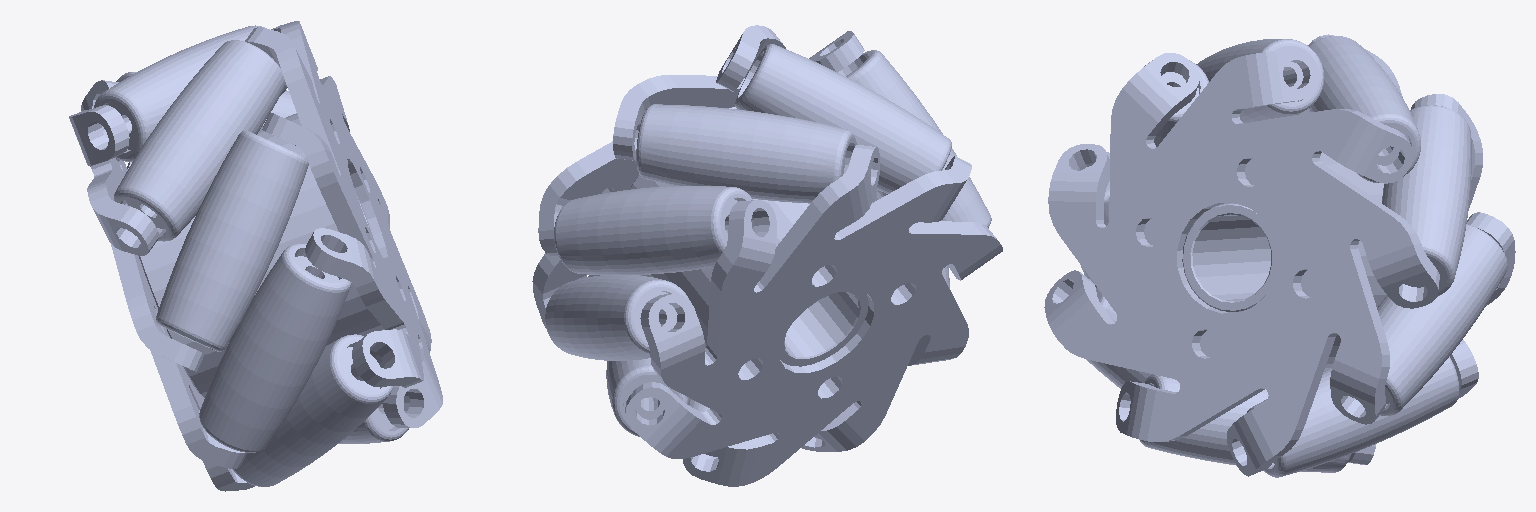
The robot description file, URDF, robot "Mecanum-Right":
<?xml version="1.0" encoding="utf-8"?>
<!-- This URDF was automatically created by SolidWorks to URDF Exporter! Originally created by [author] ([email redacted]) 
     Commit Version: 1.6.0-4-g7f85cfe  Build Version: 1.6.7995.38578
     For more information, please see http://wiki.ros.org/sw_urdf_exporter -->
<robot
  name="Mecanum-Right">
  <link
    name="Right_Base_Link">
    <inertial>
      <origin
        xyz="-4.7771233839358E-07 2.34552518933002E-07 -2.07119508697187E-07"
        rpy="0 0 0" />
      <mass
        value="0.0110925597603562" />
      <inertia
        ixx="1.26410691718137E-06"
        ixy="-1.5460162528858E-07"
        ixz="1.36519585539842E-07"
        iyy="1.02513832514045E-06"
        iyz="-6.70299050271453E-08"
        izz="1.00842045851304E-06" />
    </inertial>
    <visual>
      <origin
        xyz="0 0 0"
        rpy="0 0 0" />
      <geometry>
        <mesh
          filename="package://Mecanum-Right/meshes/Right_Base_Link.STL" />
      </geometry>
      <material
        name="">
        <color
          rgba="0.792156862745098 0.819607843137255 0.933333333333333 1" />
      </material>
    </visual>
    <collision>
      <origin
        xyz="0 0 0"
        rpy="0 0 0" />
      <geometry>
        <mesh
          filename="package://Mecanum-Right/meshes/Right_Base_Link.STL" />
      </geometry>
    </collision>
  </link>
  <link
    name="Mecanum_Roller_Link1">
    <inertial>
      <origin
        xyz="-4.16595979552251E-05 0 1.56125112837913E-17"
        rpy="0 0 0" />
      <mass
        value="0.00104310145784987" />
      <inertia
        ixx="9.96758957260102E-09"
        ixy="2.95006210648795E-24"
        ixz="2.48154183765908E-24"
        iyy="3.79225492604175E-08"
        iyz="-1.60266243682149E-24"
        izz="3.79225492604175E-08" />
    </inertial>
    <visual>
      <origin
        xyz="0 0 0"
        rpy="0 0 0" />
      <geometry>
        <mesh
          filename="package://Mecanum-Right/meshes/Mecanum_Roller_Link1.STL" />
      </geometry>
      <material
        name="">
        <color
          rgba="0.792156862745098 0.819607843137255 0.933333333333333 1" />
      </material>
    </visual>
    <collision>
      <origin
        xyz="0 0 0"
        rpy="0 0 0" />
      <geometry>
        <mesh
          filename="package://Mecanum-Right/meshes/Mecanum_Roller_Link1.STL" />
      </geometry>
    </collision>
  </link>
  <joint
    name="Mecanum_Roller_Joint_1"
    type="continuous">
    <origin
      xyz="-0.00786276516006295 -0.00229210366796707 0.0151828566548909"
      rpy="-1.36068806852681 0.491674447872911 -2.73783219400761" />
    <parent
      link="Right_Base_Link" />
    <child
      link="Mecanum_Roller_Link1" />
    <axis
      xyz="1 0 0" />
  </joint>
  <link
    name="Mecanum_Roller_Link2">
    <inertial>
      <origin
        xyz="-4.19537259518619E-05 5.55111512312578E-17 4.5102810375397E-17"
        rpy="0 0 0" />
      <mass
        value="0.00104310145784987" />
      <inertia
        ixx="9.96758957260102E-09"
        ixy="4.13590306276514E-25"
        ixz="8.27180612553028E-25"
        iyy="3.79225492604175E-08"
        iyz="0"
        izz="3.79225492604175E-08" />
    </inertial>
    <visual>
      <origin
        xyz="0 0 0"
        rpy="0 0 0" />
      <geometry>
        <mesh
          filename="package://Mecanum-Right/meshes/Mecanum_Roller_Link2.STL" />
      </geometry>
      <material
        name="">
        <color
          rgba="0.792156862745098 0.819607843137255 0.933333333333333 1" />
      </material>
    </visual>
    <collision>
      <origin
        xyz="0 0 0"
        rpy="0 0 0" />
      <geometry>
        <mesh
          filename="package://Mecanum-Right/meshes/Mecanum_Roller_Link2.STL" />
      </geometry>
    </collision>
  </link>
  <joint
    name="Mecanum_Roller_Joint_2"
    type="continuous">
    <origin
      xyz="-0.00257449912034201 0.00825350947765706 0.0149280771357719"
      rpy="1.93542758330994 -0.0214038442701011 0.265392618762669" />
    <parent
      link="Right_Base_Link" />
    <child
      link="Mecanum_Roller_Link2" />
    <axis
      xyz="1 0 0" />
  </joint>
  <link
    name="Mecanum_Roller_Link3">
    <inertial>
      <origin
        xyz="-4.16595979550827E-05 -1.73472347597681E-18 -1.73472347597681E-18"
        rpy="0 0 0" />
      <mass
        value="0.00104310145784987" />
      <inertia
        ixx="9.96758957260103E-09"
        ixy="1.88700577238659E-24"
        ixz="4.44609579247252E-24"
        iyy="3.79225492604175E-08"
        iyz="-4.13590306276514E-25"
        izz="3.79225492604175E-08" />
    </inertial>
    <visual>
      <origin
        xyz="0 0 0"
        rpy="0 0 0" />
      <geometry>
        <mesh
          filename="package://Mecanum-Right/meshes/Mecanum_Roller_Link3.STL" />
      </geometry>
      <material
        name="">
        <color
          rgba="0.792156862745098 0.819607843137255 0.933333333333333 1" />
      </material>
    </visual>
    <collision>
      <origin
        xyz="0 0 0"
        rpy="0 0 0" />
      <geometry>
        <mesh
          filename="package://Mecanum-Right/meshes/Mecanum_Roller_Link3.STL" />
      </geometry>
    </collision>
  </link>
  <joint
    name="Mecanum_Roller_Joint_3"
    type="continuous">
    <origin
      xyz="0.0038677825728569 0.0149620683207087 0.00766633686486059"
      rpy="-1.45997240902279 -0.325004631734415 3.05656776956051" />
    <parent
      link="Right_Base_Link" />
    <child
      link="Mecanum_Roller_Link3" />
    <axis
      xyz="1 0 0" />
  </joint>
  <link
    name="Mecanum_Roller_Link4">
    <inertial>
      <origin
        xyz="4.16595979567443E-05 0 -1.73472347597681E-18"
        rpy="0 0 0" />
      <mass
        value="0.00104310145784984" />
      <inertia
        ixx="9.96758957238032E-09"
        ixy="-2.06795153138257E-24"
        ixz="-5.58346913473294E-24"
        iyy="3.79225492603072E-08"
        iyz="-4.96308367531817E-24"
        izz="3.79225492603072E-08" />
    </inertial>
    <visual>
      <origin
        xyz="0 0 0"
        rpy="0 0 0" />
      <geometry>
        <mesh
          filename="package://Mecanum-Right/meshes/Mecanum_Roller_Link4.STL" />
      </geometry>
      <material
        name="">
        <color
          rgba="0.792156862745098 0.819607843137255 0.933333333333333 1" />
      </material>
    </visual>
    <collision>
      <origin
        xyz="0 0 0"
        rpy="0 0 0" />
      <geometry>
        <mesh
          filename="package://Mecanum-Right/meshes/Mecanum_Roller_Link4.STL" />
      </geometry>
    </collision>
  </link>
  <joint
    name="Mecanum_Roller_Joint_4"
    type="continuous">
    <origin
      xyz="0.00844966471730028 0.0146945636211975 -0.00320451517983013"
      rpy="-1.23509707840396 0.401303910502291 -0.602154738197085" />
    <parent
      link="Right_Base_Link" />
    <child
      link="Mecanum_Roller_Link4" />
    <axis
      xyz="1 0 0" />
  </joint>
  <link
    name="Mecanum_Roller_Link5">
    <inertial>
      <origin
        xyz="4.16595979569898E-05 3.64291929955129E-17 -1.38777878078145E-17"
        rpy="0 0 0" />
      <mass
        value="0.0010431014578499" />
      <inertia
        ixx="9.96758957260262E-09"
        ixy="2.06795153138257E-25"
        ixz="2.06795153138257E-24"
        iyy="3.79225492604183E-08"
        iyz="2.06795153138257E-24"
        izz="3.79225492604183E-08" />
    </inertial>
    <visual>
      <origin
        xyz="0 0 0"
        rpy="0 0 0" />
      <geometry>
        <mesh
          filename="package://Mecanum-Right/meshes/Mecanum_Roller_Link5.STL" />
      </geometry>
      <material
        name="">
        <color
          rgba="0.792156862745098 0.819607843137255 0.933333333333333 1" />
      </material>
    </visual>
    <collision>
      <origin
        xyz="0 0 0"
        rpy="0 0 0" />
      <geometry>
        <mesh
          filename="package://Mecanum-Right/meshes/Mecanum_Roller_Link5.STL" />
      </geometry>
    </collision>
  </link>
  <joint
    name="Mecanum_Roller_Joint_5"
    type="continuous">
    <origin
      xyz="0.00902723373565527 0.0075761638010083 -0.0125978865105267"
      rpy="1.01038415879456 0.159830081855345 -1.04575970415485" />
    <parent
      link="Right_Base_Link" />
    <child
      link="Mecanum_Roller_Link5" />
    <axis
      xyz="1 0 0" />
  </joint>
  <link
    name="Mecanum_Roller_Link6">
    <inertial>
      <origin
        xyz="4.16595979573133E-05 -6.93889390390723E-18 1.73472347597681E-18"
        rpy="0 0 0" />
      <mass
        value="0.00104310145784987" />
      <inertia
        ixx="9.96758957260103E-09"
        ixy="1.75775880167518E-24"
        ixz="2.8951321439356E-24"
        iyy="3.79225492604175E-08"
        iyz="2.99852972050473E-24"
        izz="3.79225492604175E-08" />
    </inertial>
    <visual>
      <origin
        xyz="0 0 0"
        rpy="0 0 0" />
      <geometry>
        <mesh
          filename="package://Mecanum-Right/meshes/Mecanum_Roller_Link6.STL" />
      </geometry>
      <material
        name="">
        <color
          rgba="0.792156862745098 0.819607843137255 0.933333333333333 1" />
      </material>
    </visual>
    <collision>
      <origin
        xyz="0 0 0"
        rpy="0 0 0" />
      <geometry>
        <mesh
          filename="package://Mecanum-Right/meshes/Mecanum_Roller_Link6.STL" />
      </geometry>
    </collision>
  </link>
  <joint
    name="Mecanum_Roller_Joint_6"
    type="continuous">
    <origin
      xyz="0.00533023866526893 -0.00306235275179063 -0.0161185142859026"
      rpy="-1.00833638122774 -0.270056335980709 -1.28003202448786" />
    <parent
      link="Right_Base_Link" />
    <child
      link="Mecanum_Roller_Link6" />
    <axis
      xyz="1 0 0" />
  </joint>
  <link
    name="Mecanum_Roller_Link7">
    <inertial>
      <origin
        xyz="4.19537259526218E-05 2.94902990916057E-17 1.38777878078145E-17"
        rpy="0 0 0" />
      <mass
        value="0.00104310145784982" />
      <inertia
        ixx="9.967589571584E-09"
        ixy="1.55096364853693E-24"
        ixz="-5.37667398159468E-24"
        iyy="3.79225492598888E-08"
        iyz="-1.24077091882954E-24"
        izz="3.79225492598888E-08" />
    </inertial>
    <visual>
      <origin
        xyz="0 0 0"
        rpy="0 0 0" />
      <geometry>
        <mesh
          filename="package://Mecanum-Right/meshes/Mecanum_Roller_Link7.STL" />
      </geometry>
      <material
        name="">
        <color
          rgba="0.792156862745098 0.819607843137255 0.933333333333333 1" />
      </material>
    </visual>
    <collision>
      <origin
        xyz="0 0 0"
        rpy="0 0 0" />
      <geometry>
        <mesh
          filename="package://Mecanum-Right/meshes/Mecanum_Roller_Link7.STL" />
      </geometry>
    </collision>
  </link>
  <joint
    name="Mecanum_Roller_Joint_7"
    type="continuous">
    <origin
      xyz="-0.000911455412901512 -0.0122431059082033 -0.0121190576424399"
      rpy="0.755293558147071 0.758576984655219 1.85745610617137" />
    <parent
      link="Right_Base_Link" />
    <child
      link="Mecanum_Roller_Link7" />
    <axis
      xyz="1 0 0" />
  </joint>
  <link
    name="Mecanum_Roller_Link8">
    <inertial>
      <origin
        xyz="-4.19537259514699E-05 1.38777878078145E-17 -1.21430643318376E-17"
        rpy="0 0 0" />
      <mass
        value="0.00104310145784987" />
      <inertia
        ixx="9.96758957260103E-09"
        ixy="-1.55096364853693E-24"
        ixz="-2.06795153138257E-25"
        iyy="3.79225492604175E-08"
        iyz="-3.30872245021211E-24"
        izz="3.79225492604175E-08" />
    </inertial>
    <visual>
      <origin
        xyz="0 0 0"
        rpy="0 0 0" />
      <geometry>
        <mesh
          filename="package://Mecanum-Right/meshes/Mecanum_Roller_Link8.STL" />
      </geometry>
      <material
        name="">
        <color
          rgba="0.792156862745098 0.819607843137255 0.933333333333333 1" />
      </material>
    </visual>
    <collision>
      <origin
        xyz="0 0 0"
        rpy="0 0 0" />
      <geometry>
        <mesh
          filename="package://Mecanum-Right/meshes/Mecanum_Roller_Link8.STL" />
      </geometry>
    </collision>
  </link>
  <joint
    name="Mecanum_Roller_Joint_8"
    type="continuous">
    <origin
      xyz="-0.00677729047097743 -0.0156703192336383 -0.00247090679262434"
      rpy="2.95463100680286 -1.13639269714102 -0.725426795925048" />
    <parent
      link="Right_Base_Link" />
    <child
      link="Mecanum_Roller_Link8" />
    <axis
      xyz="1 0 0" />
  </joint>
  <link
    name="Mecanum_Roller_Link9">
    <inertial>
      <origin
        xyz="-4.16595979555983E-05 -5.20417042793042E-18 6.93889390390723E-18"
        rpy="0 0 0" />
      <mass
        value="0.00104310145784987" />
      <inertia
        ixx="9.96758957260103E-09"
        ixy="1.24077091882954E-24"
        ixz="4.66581564268192E-24"
        iyy="3.79225492604175E-08"
        iyz="4.13590306276514E-25"
        izz="3.79225492604175E-08" />
    </inertial>
    <visual>
      <origin
        xyz="0 0 0"
        rpy="0 0 0" />
      <geometry>
        <mesh
          filename="package://Mecanum-Right/meshes/Mecanum_Roller_Link9.STL" />
      </geometry>
      <material
        name="">
        <color
          rgba="0.792156862745098 0.819607843137255 0.933333333333333 1" />
      </material>
    </visual>
    <collision>
      <origin
        xyz="0 0 0"
        rpy="0 0 0" />
      <geometry>
        <mesh
          filename="package://Mecanum-Right/meshes/Mecanum_Roller_Link9.STL" />
      </geometry>
    </collision>
  </link>
  <joint
    name="Mecanum_Roller_Joint_9"
    type="continuous">
    <origin
      xyz="-0.00952257709379006 -0.011740361523891 0.00831146125366275"
      rpy="0.326455693966909 0.964739218565908 -2.90683123969866" />
    <parent
      link="Right_Base_Link" />
    <child
      link="Mecanum_Roller_Link9" />
    <axis
      xyz="1 0 0" />
  </joint>
</robot>

--- Render facts (derived) ---
Views: 3 orthographic renders of the robot side by side, from view 1: azimuth 30°, elevation 25°; view 2: azimuth 150°, elevation 25°; view 3: azimuth 270°, elevation 25°.
Model Mecanum-Right with 10 links and 9 joints (9 continuous), rooted at Right_Base_Link, posed every joint at zero.
Links seen in each view (by area): view 1: Right_Base_Link, Mecanum_Roller_Link9, Mecanum_Roller_Link8, Mecanum_Roller_Link1, Mecanum_Roller_Link7, Mecanum_Roller_Link2, Mecanum_Roller_Link6; view 2: Right_Base_Link, Mecanum_Roller_Link2, Mecanum_Roller_Link3, Mecanum_Roller_Link1, Mecanum_Roller_Link4, Mecanum_Roller_Link9, Mecanum_Roller_Link5; view 3: Right_Base_Link, Mecanum_Roller_Link4, Mecanum_Roller_Link3, Mecanum_Roller_Link5, Mecanum_Roller_Link2, Mecanum_Roller_Link6, Mecanum_Roller_Link1, Mecanum_Roller_Link7, Mecanum_Roller_Link9.
Boxes of the visible links, x1,y1,x2,y2 form: Right_Base_Link: (69,21,442,491); Mecanum_Roller_Link9: (156,131,308,351); Mecanum_Roller_Link8: (199,244,351,452); Mecanum_Roller_Link1: (114,40,285,241); Mecanum_Roller_Link7: (232,334,393,486); Mecanum_Roller_Link2: (94,25,287,161); Mecanum_Roller_Link6: (338,392,409,443); Right_Base_Link: (532,25,1002,486); Mecanum_Roller_Link2: (636,104,856,203); Mecanum_Roller_Link3: (554,186,753,274); Mecanum_Roller_Link1: (735,44,951,193); Mecanum_Roller_Link4: (545,275,688,360); Mecanum_Roller_Link9: (838,50,991,227); Mecanum_Roller_Link5: (606,358,690,436); Right_Base_Link: (1044,34,1515,476); Mecanum_Roller_Link4: (1377,224,1507,415); Mecanum_Roller_Link3: (1382,105,1471,296); Mecanum_Roller_Link5: (1247,356,1458,477); Mecanum_Roller_Link2: (1308,36,1420,182); Mecanum_Roller_Link6: (1140,374,1350,472); Mecanum_Roller_Link1: (1196,39,1323,122); Mecanum_Roller_Link7: (1086,277,1151,388); Mecanum_Roller_Link9: (1144,60,1208,146).
Bounding box of the posed robot: 0.0421 × 0.0474 × 0.0471 m (x, y, z).
10 mesh visuals loaded from 10 distinct referenced files (10 binary STL).